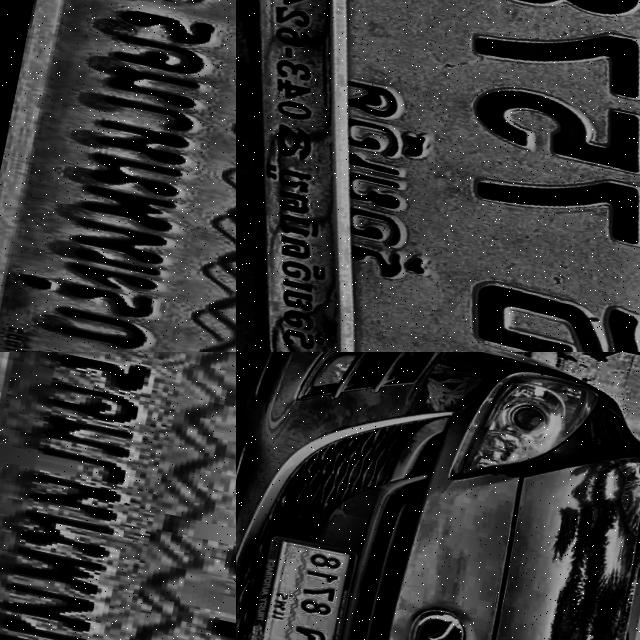license-plate: (236, 0, 640, 352), (0, 0, 236, 352), (0, 352, 236, 640), (238, 529, 361, 640)
